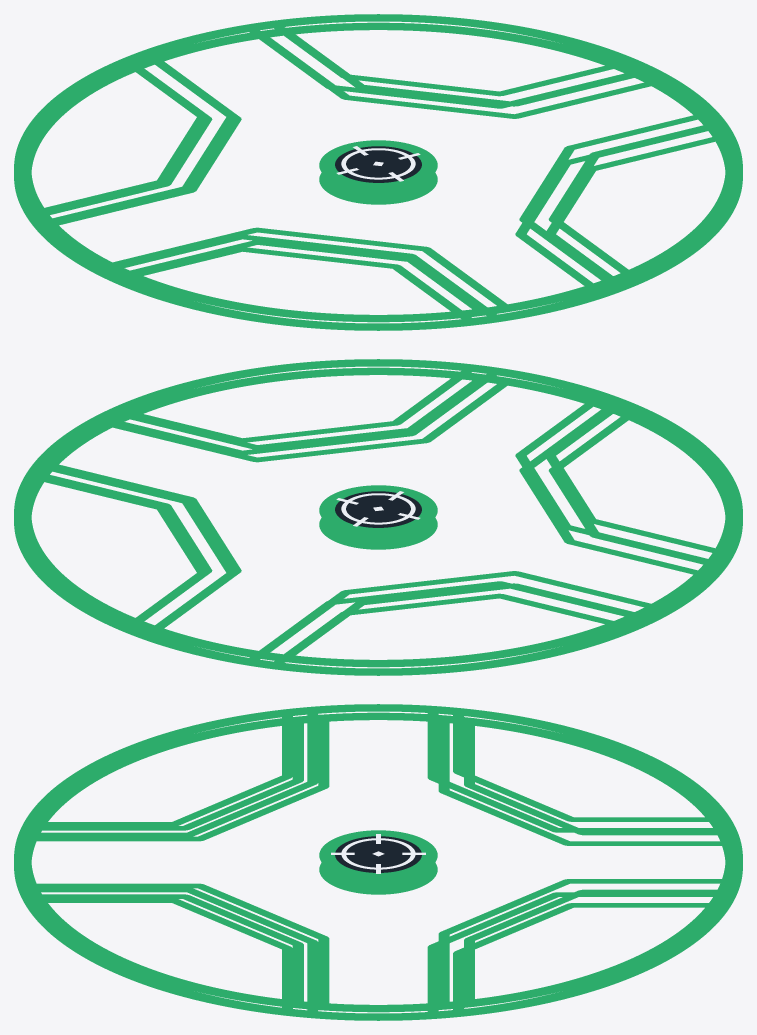
The picture shows the model from 3 angles, top to bottom: view 1: azimuth 30°, elevation 25°; view 2: azimuth 150°, elevation 25°; view 3: azimuth 270°, elevation 25°; orthographic projection.
Bounding box in the file's own units: 18.44 × 0.48 × 18.44.
8 materials, 8 textured.
